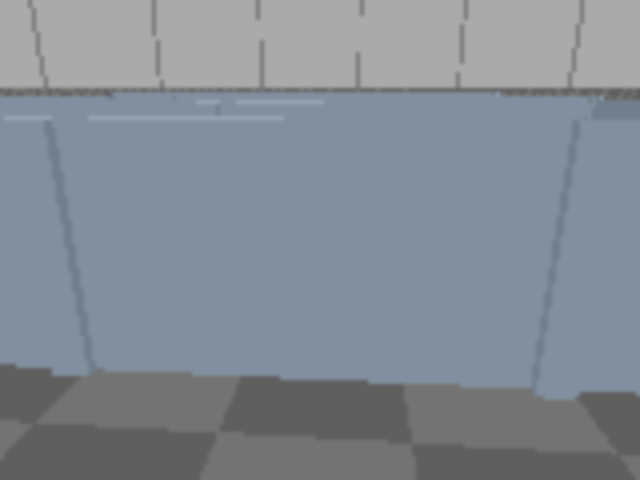person: (0, 0, 5, 209)
